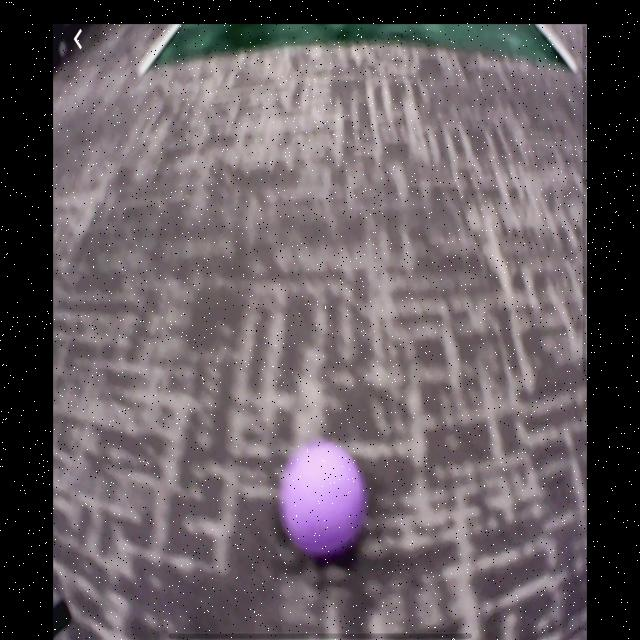ball: (284, 446, 364, 551)
